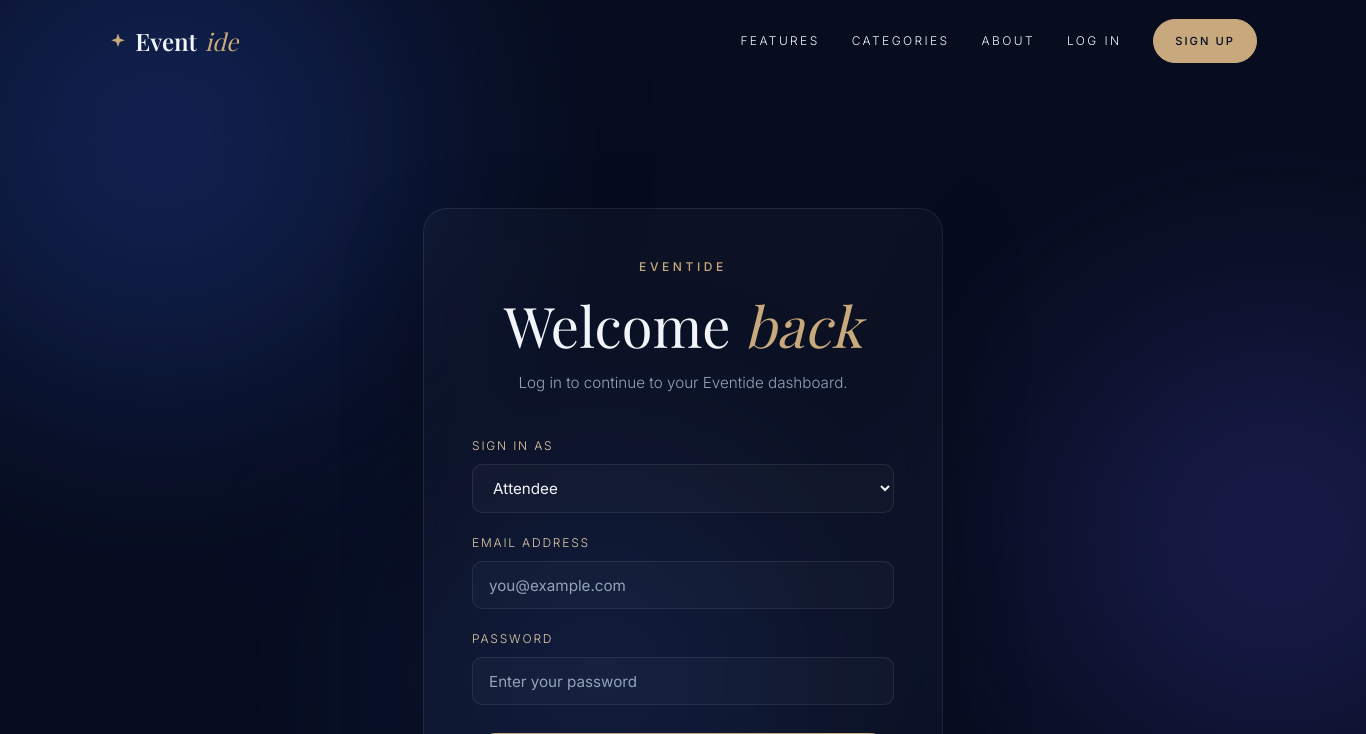
EMS-FR-01 Landing page in the app › a section link in the navigation scrolls the landing page to that section
Click the link "About" at (1008, 41), box [982, 26, 1035, 56]
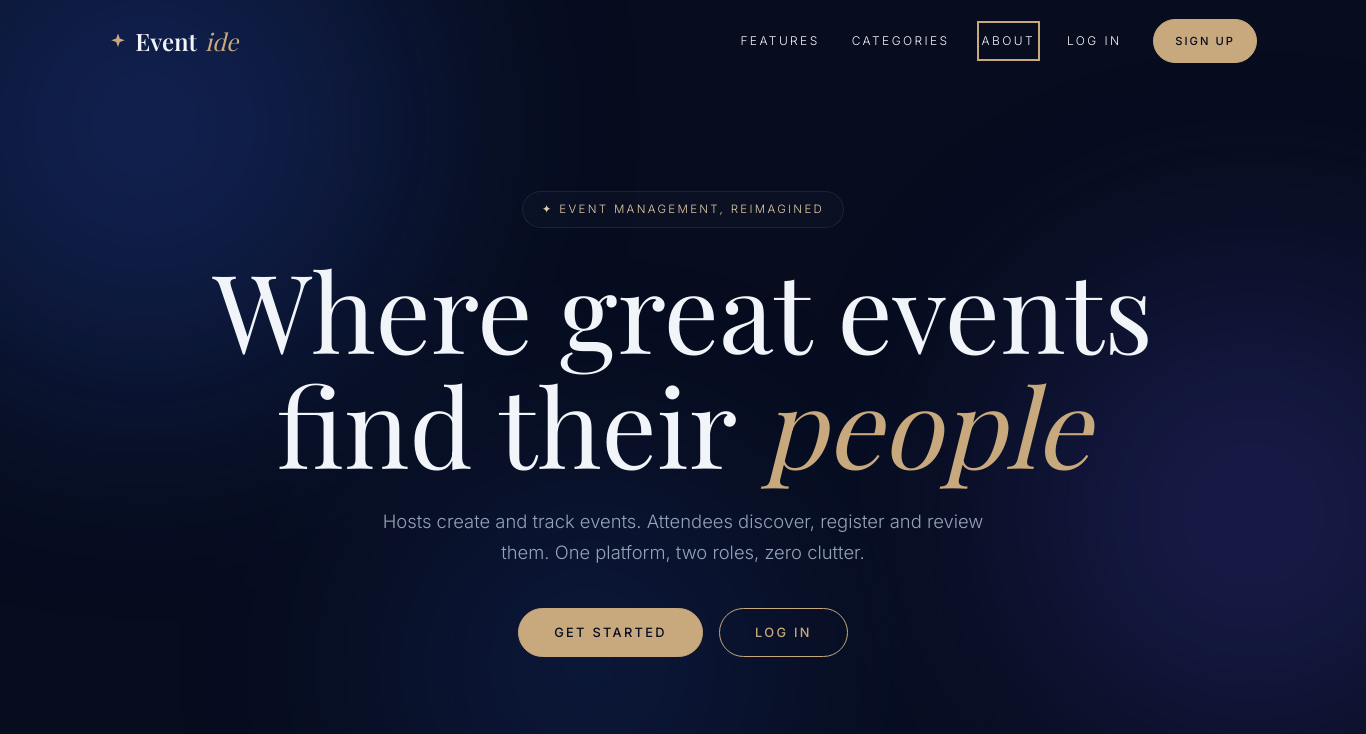
Expected: the heading "Where great events find their people" is shown, [183, 252, 1183, 482]
